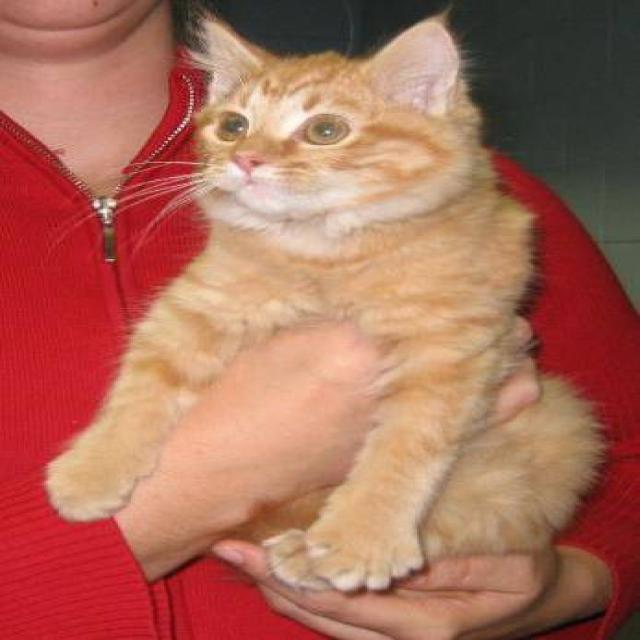cat: (42, 5, 608, 594)
